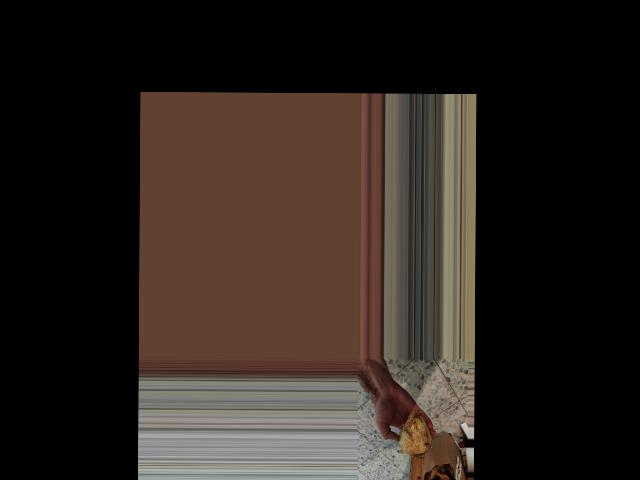onion: (397, 408, 433, 457)
